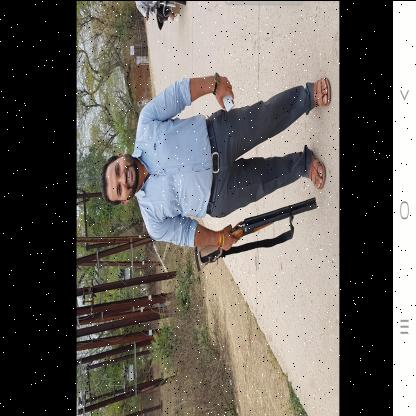rifle: (193, 194, 318, 272)
